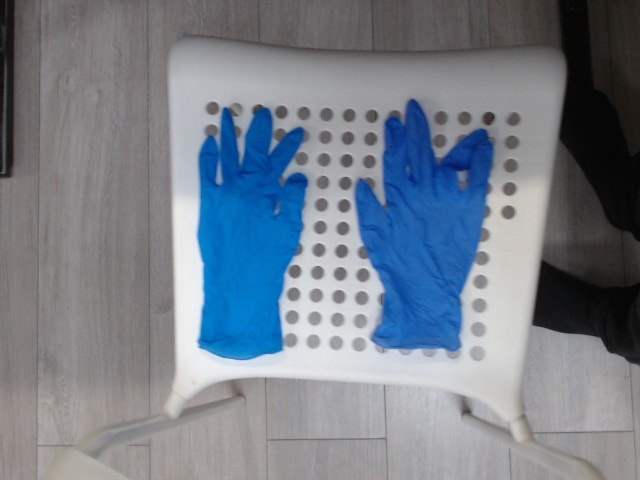medical_glove: (356, 99, 491, 350), (196, 107, 307, 357)
